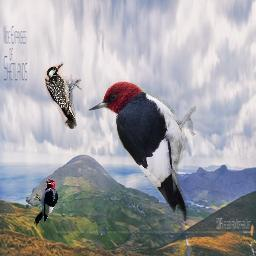Woodpecker: (82, 79, 196, 221), (42, 61, 86, 129), (32, 176, 58, 228)
